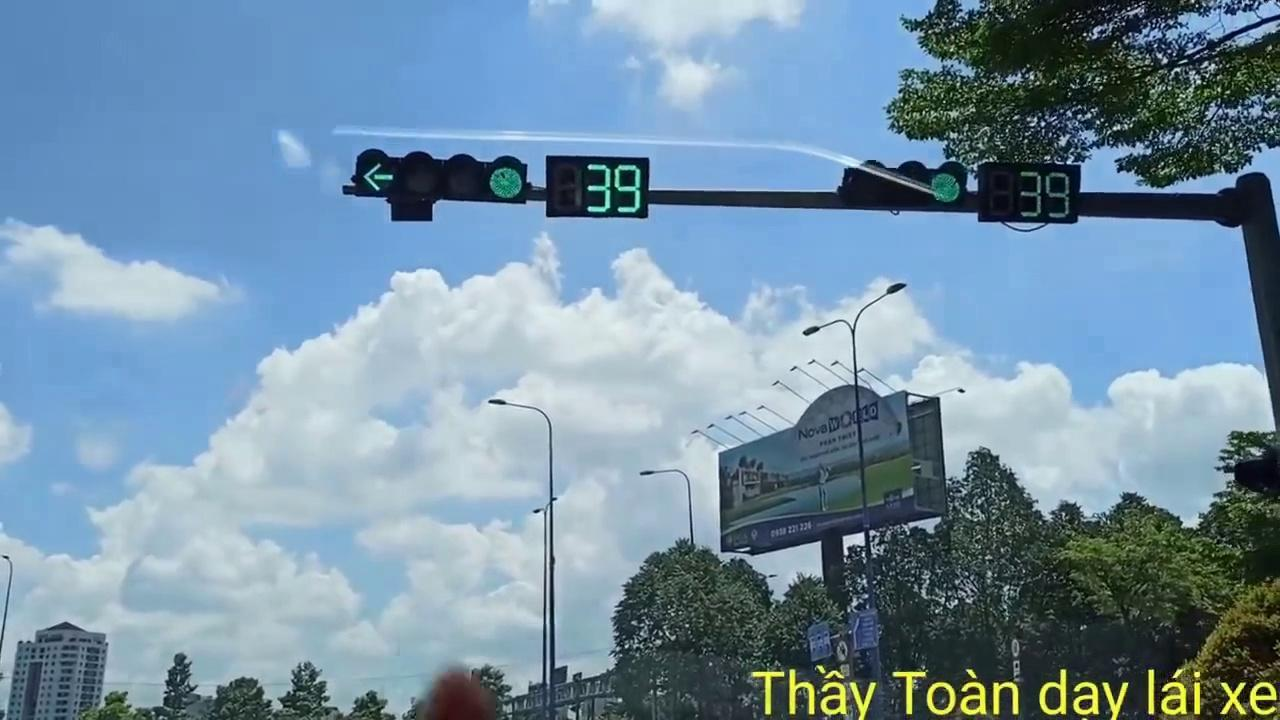Chỉ hướng đường: (848, 612, 881, 650)
Cấm xe máy: (835, 638, 849, 662)
Làn đường cho từng xe: (805, 622, 833, 660)
